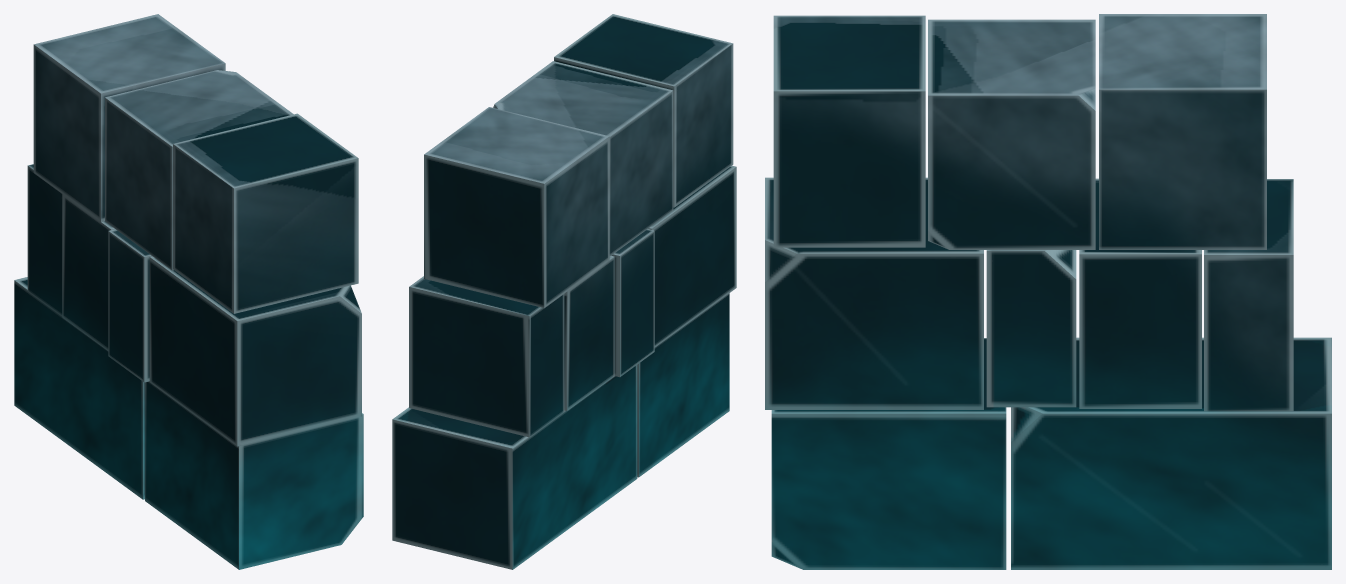
The model's file is tijolos 2.fbx.
3 views of the same model, side by side, from view 1: azimuth 30°, elevation 25°; view 2: azimuth 150°, elevation 25°; view 3: azimuth 270°, elevation 25° (orthographic). The views are drawn at different scales.
Parts seen in each view (by area): view 1: tijolos.001; view 2: tijolos.001; view 3: tijolos.001.
Boxes of the visible parts, <box> form: tijolos.001: <box>14,14,363,569</box>; tijolos.001: <box>392,14,736,569</box>; tijolos.001: <box>765,14,1331,569</box>.
Size of the model in its own units: 38.85 by 106 by 115.
1 material, 1 textured.
